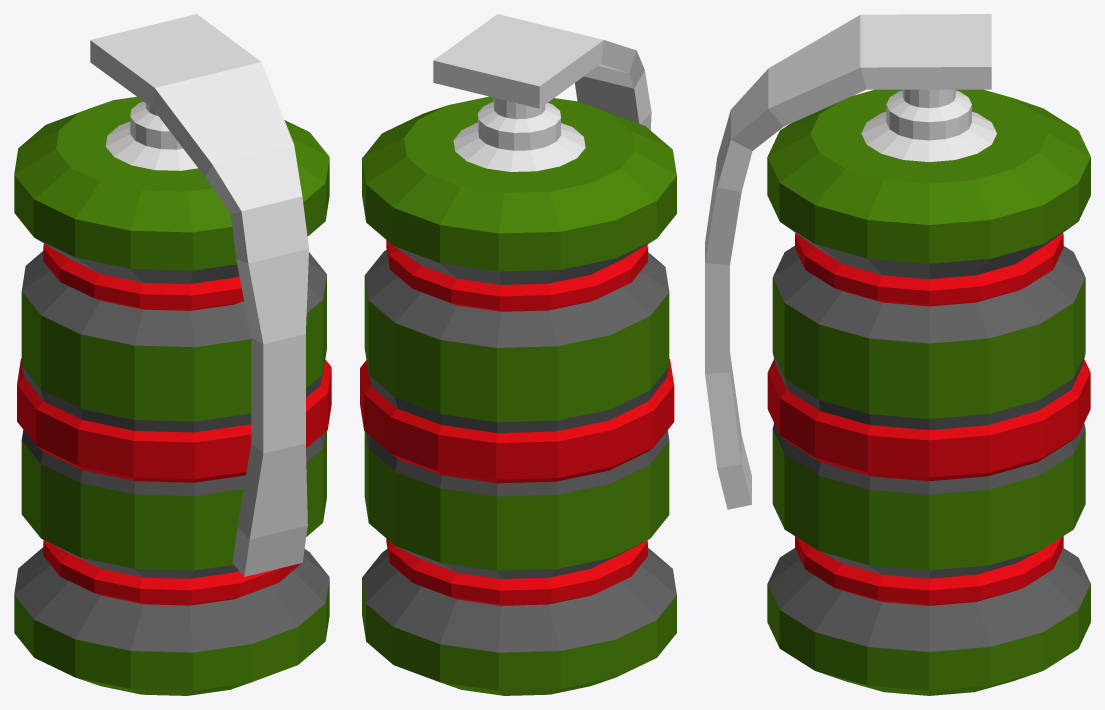
The model's file is Г3 Граната огнеметные.fbx.
3 views of the same model, side by side, from view 1: azimuth 30°, elevation 25°; view 2: azimuth 150°, elevation 25°; view 3: azimuth 270°, elevation 25° (orthographic).
Visible parts, largest first — view 1: Cylinder, Plane; view 2: Cylinder, Plane; view 3: Cylinder, Plane.
Boxes of the visible parts, x1,y1,x2,y2 form: Cylinder: (14,96,331,695); Plane: (90,14,308,576); Cylinder: (360,96,676,695); Plane: (433,14,651,251); Cylinder: (767,89,1090,695); Plane: (705,14,991,509).
Bounding box in the file's own units: 208 × 428 × 247.
